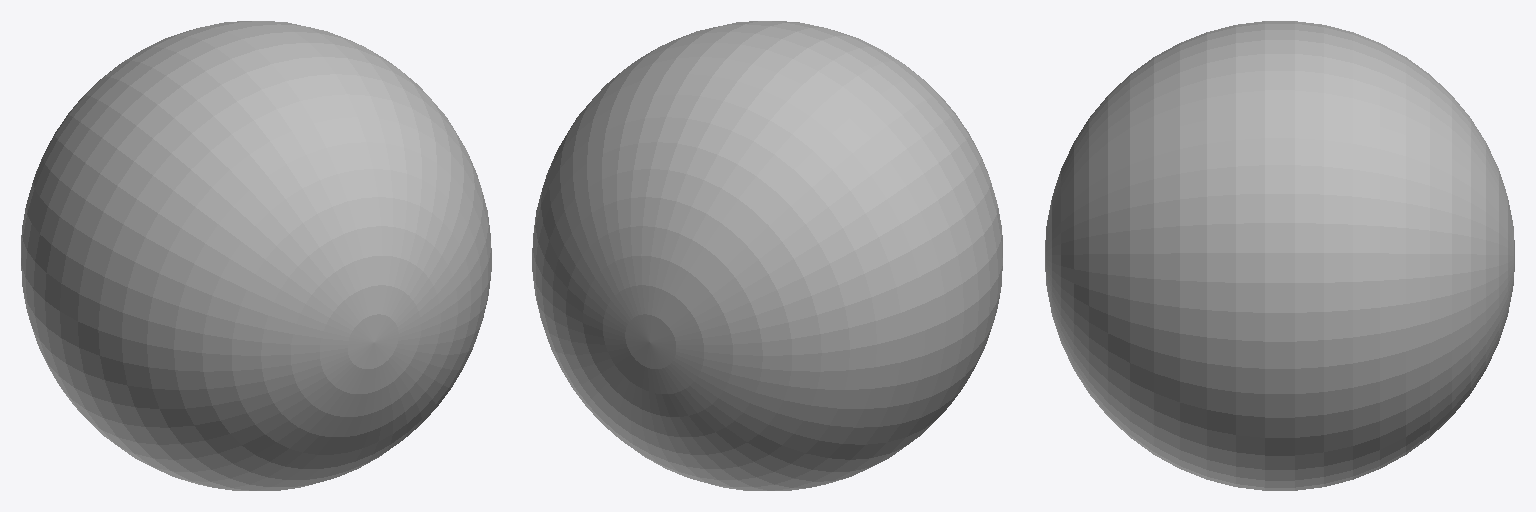
URDF robot description (bal):
<?xml version="1.0" encoding="utf-8"?>
<!-- This URDF was automatically created by SolidWorks to URDF Exporter! Originally created by [author] ([email redacted]) 
     Commit Version: 1.6.0-4-g7f85cfe  Build Version: 1.6.7995.38578
     For more information, please see http://wiki.ros.org/sw_urdf_exporter -->
<robot
  name="bal">
  <link
    name="base_link">
    <inertial>
      <origin
        xyz="2.1814E-18 0 0"
        rpy="0 0 0" />
      <mass
        value="3.5914" />
      <inertia
        ixx="0.012965"
        ixy="0"
        ixz="0"
        iyy="0.012965"
        iyz="0"
        izz="0.012965" />
    </inertial>
    <visual>
      <origin
        xyz="0 0 0"
        rpy="0 0 0" />
      <geometry>
        <mesh
          filename="package://bal/meshes/base_link.STL" />
      </geometry>
      <material
        name="">
        <color
          rgba="0.75294 0.75294 0.75294 1" />
      </material>
    </visual>
    <collision>
      <origin
        xyz="0 0 0"
        rpy="0 0 0" />
      <geometry>
        <mesh
          filename="package://bal/meshes/base_link.STL" />
      </geometry>
    </collision>
  </link>
  <gazebo>
    <plugin name="object_controller" filename="libgazebo_ros_planar_move.so">
      <commandTopic>cmd_vel</commandTopic>
      <odometryTopic>odom</odometryTopic>
      <odometryFrame>odom</odometryFrame>
      <odometryRate>20.0</odometryRate>
      <robotBaseFrame>base_footprint</robotBaseFrame>
    </plugin>
  </gazebo>
</robot>

--- What the picture shows (computed from the rendered views, not written in the file) ---
The picture shows the robot from 3 angles, left to right: view 1: azimuth 30°, elevation 25°; view 2: azimuth 150°, elevation 25°; view 3: azimuth 270°, elevation 25°; orthographic projection.
Model bal with 1 links and 0 joints (none), rooted at base_link, posed every joint at zero.
Links seen in each view (by area): view 1: base_link; view 2: base_link; view 3: base_link.
Boxes of the visible links, x1=… form: base_link: x1=21, y1=21, x2=491, y2=490; base_link: x1=532, y1=21, x2=1002, y2=490; base_link: x1=1045, y1=21, x2=1514, y2=490.
Size in the robot's own frame: 0.1894 by 0.19 by 0.1895 metres.
1 mesh visuals loaded from 1 distinct referenced files (1 binary STL).